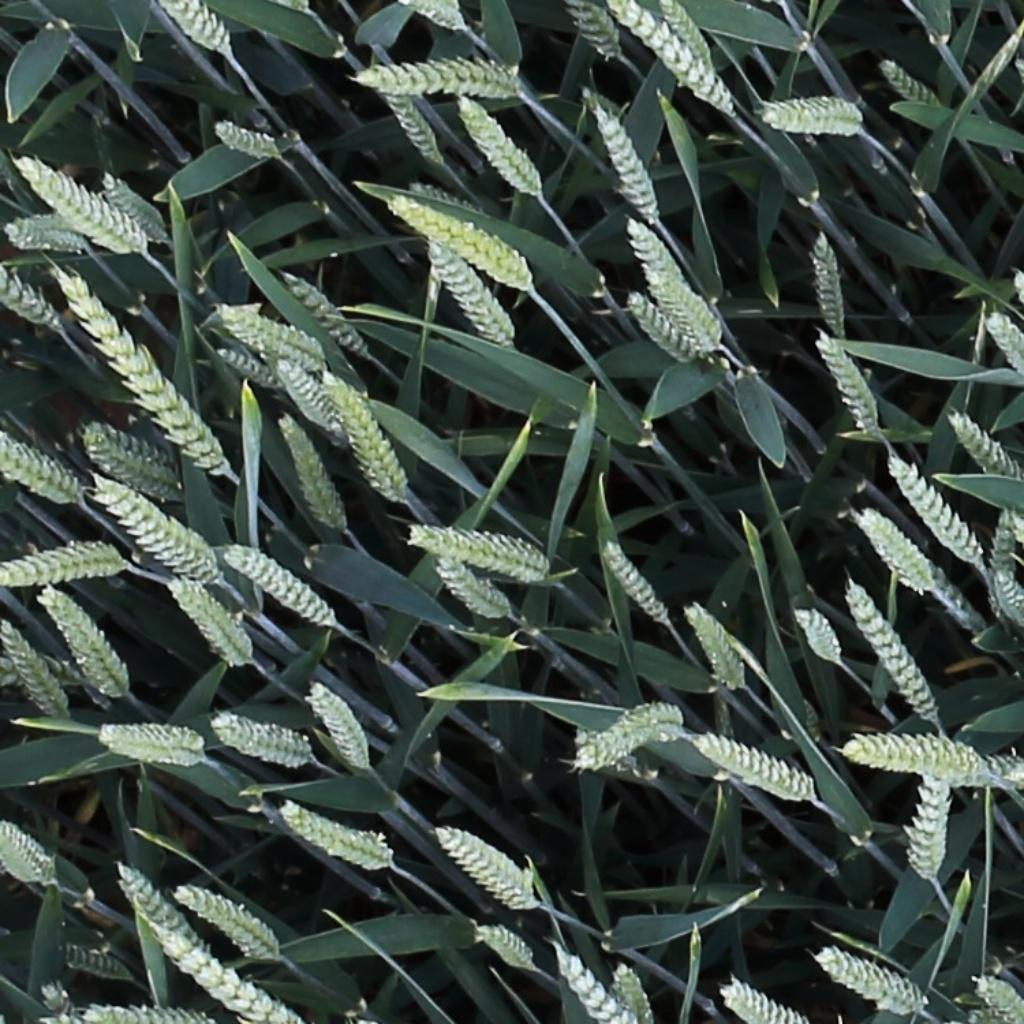0-0: (48, 269, 234, 478), (147, 920, 309, 1024), (839, 577, 943, 724), (386, 196, 531, 294), (95, 475, 225, 584), (15, 154, 153, 253), (611, 1, 734, 111), (883, 449, 988, 565), (322, 368, 406, 503), (35, 584, 131, 701), (580, 81, 660, 221), (425, 236, 514, 353), (110, 862, 210, 965), (221, 544, 339, 630), (273, 794, 396, 875), (450, 90, 543, 197), (273, 410, 345, 537), (406, 523, 553, 584), (692, 732, 815, 802), (277, 267, 370, 359), (432, 827, 531, 913), (846, 732, 987, 790), (578, 699, 687, 770), (812, 326, 882, 436), (166, 577, 251, 667), (0, 614, 70, 723), (354, 59, 533, 100), (815, 948, 925, 1014), (83, 423, 182, 493), (595, 539, 671, 629), (303, 678, 372, 776), (856, 509, 933, 595), (173, 890, 277, 953), (621, 211, 686, 311), (0, 539, 131, 588), (622, 286, 703, 365), (681, 596, 746, 693), (0, 434, 84, 509), (376, 80, 445, 170), (548, 946, 626, 1024), (271, 356, 344, 439), (214, 710, 310, 772), (946, 409, 1024, 483), (96, 720, 204, 772), (96, 167, 167, 244), (432, 555, 513, 622), (908, 775, 952, 888), (222, 308, 319, 359), (660, 278, 723, 352), (754, 99, 861, 140), (655, 0, 716, 70), (808, 228, 846, 337), (0, 266, 62, 330), (0, 819, 57, 887), (162, 0, 228, 55), (790, 603, 845, 669), (565, 0, 622, 62), (879, 58, 943, 110), (7, 214, 92, 253), (720, 984, 801, 1024), (983, 309, 1024, 383), (212, 345, 281, 387), (946, 752, 1024, 789), (607, 959, 652, 1022), (472, 925, 533, 970), (208, 118, 278, 157), (989, 501, 1018, 591), (972, 973, 1024, 1022), (55, 946, 129, 980), (989, 567, 1024, 634), (794, 692, 827, 750), (409, 0, 462, 30), (1007, 263, 1024, 342)
